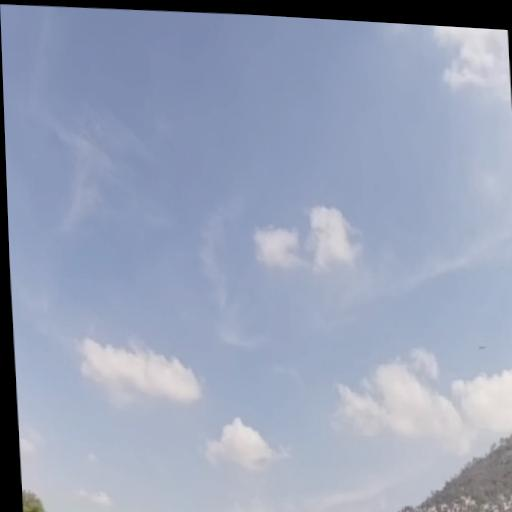drones: (475, 337, 489, 358)
